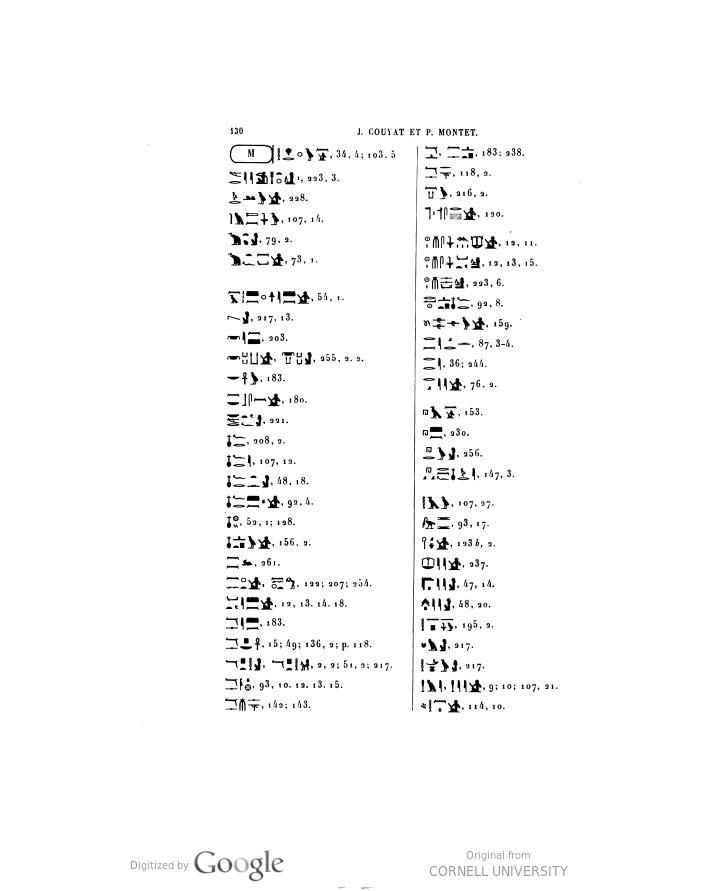circle: (229, 133, 279, 174)
